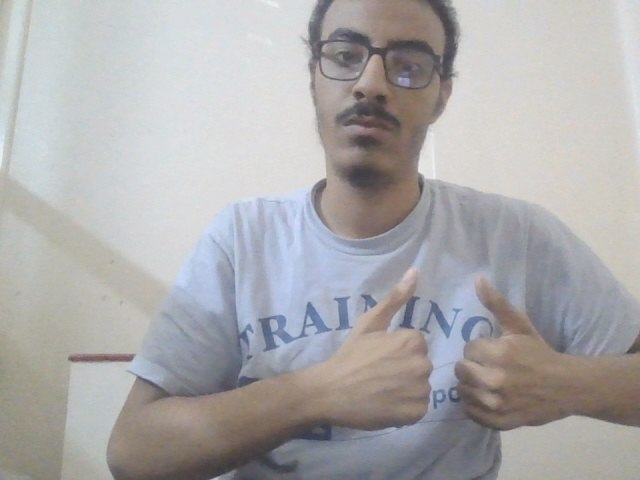Help: (317, 263, 582, 442)
